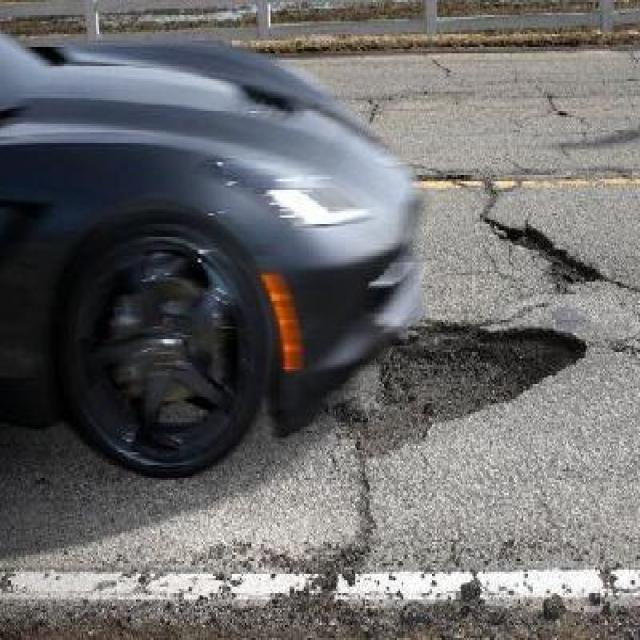Pothole: (328, 317, 589, 458), (496, 219, 603, 289)
